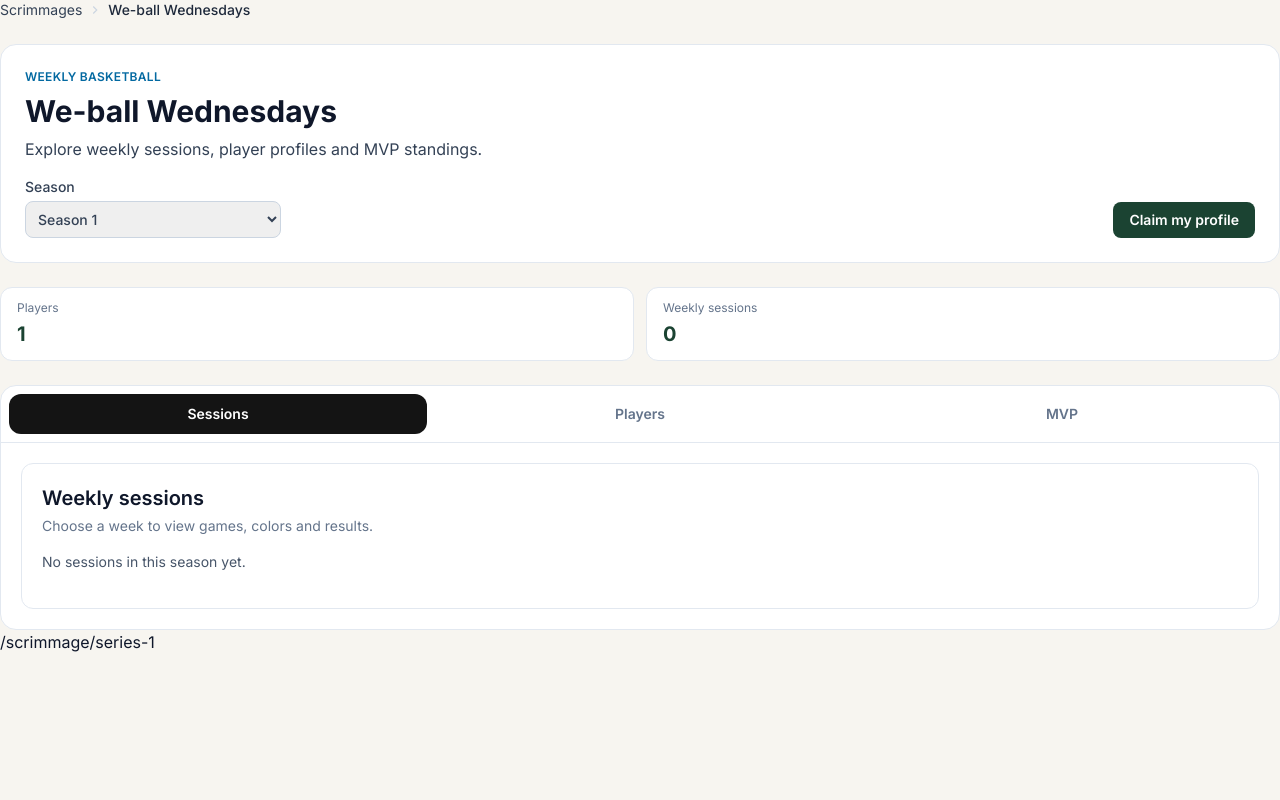
scrimmage membership and MVP › claim terms stay hidden until the player opens the claim dialog
Expected: the text "Play respectfully." is not shown
Click the button "Claim my profile" at (1184, 220), box [1113, 202, 1255, 238]
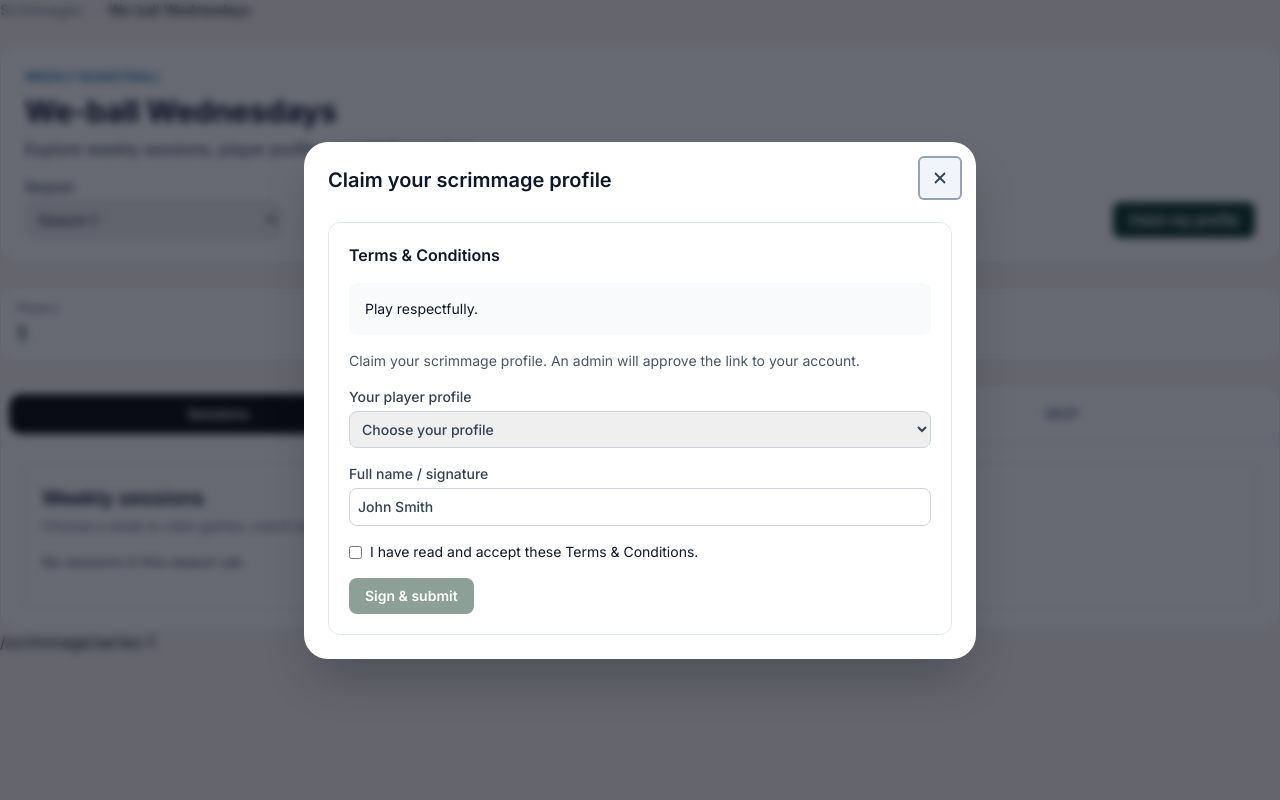
Expected: the text "Play respectfully." is shown, [349, 282, 931, 334]
Expected: the dialog is shown, [304, 142, 976, 658]
